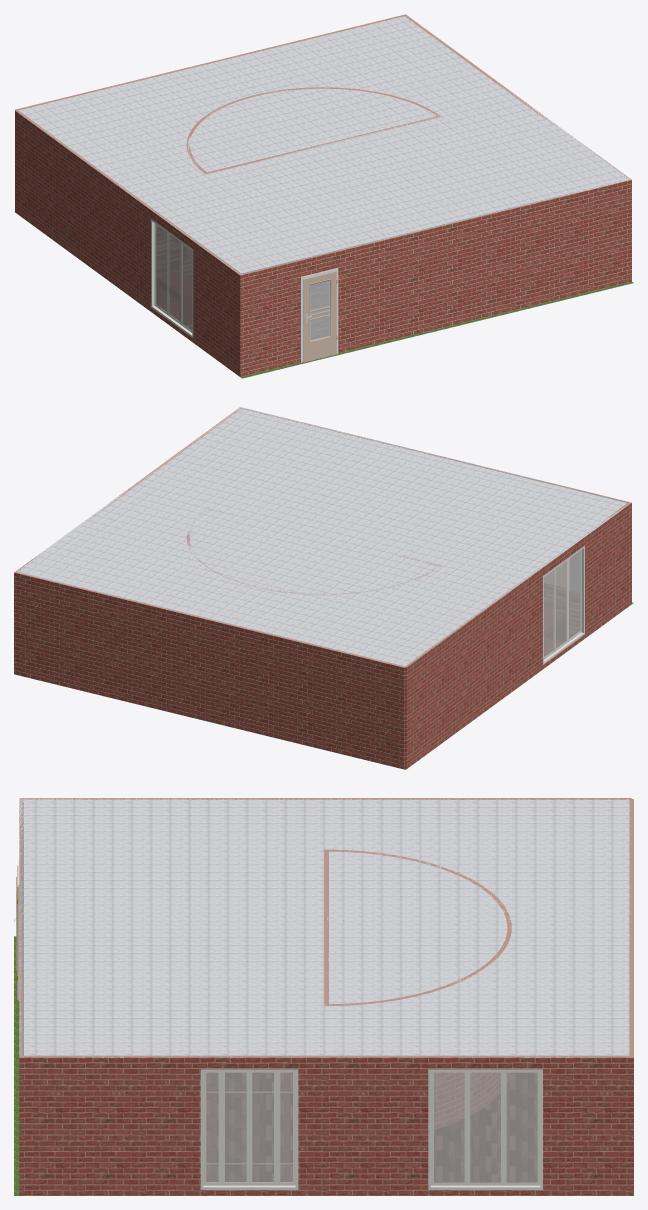
Rendered from casa1.glb.
3 renders of one model, top to bottom at view 1: azimuth 30°, elevation 25°; view 2: azimuth 150°, elevation 25°; view 3: azimuth 270°, elevation 25°, orthographic. The views are drawn at different scales.
Parts seen in each view (by area): view 1: casa1; view 2: casa1; view 3: casa1.
Boxes of the visible parts, x1,y1,x2,y2 form: casa1: (14, 14, 633, 378); casa1: (14, 407, 633, 769); casa1: (14, 798, 633, 1195).
Size of the model in its own units: 1008 by 250 by 1016.
33 materials, 7 textured.
